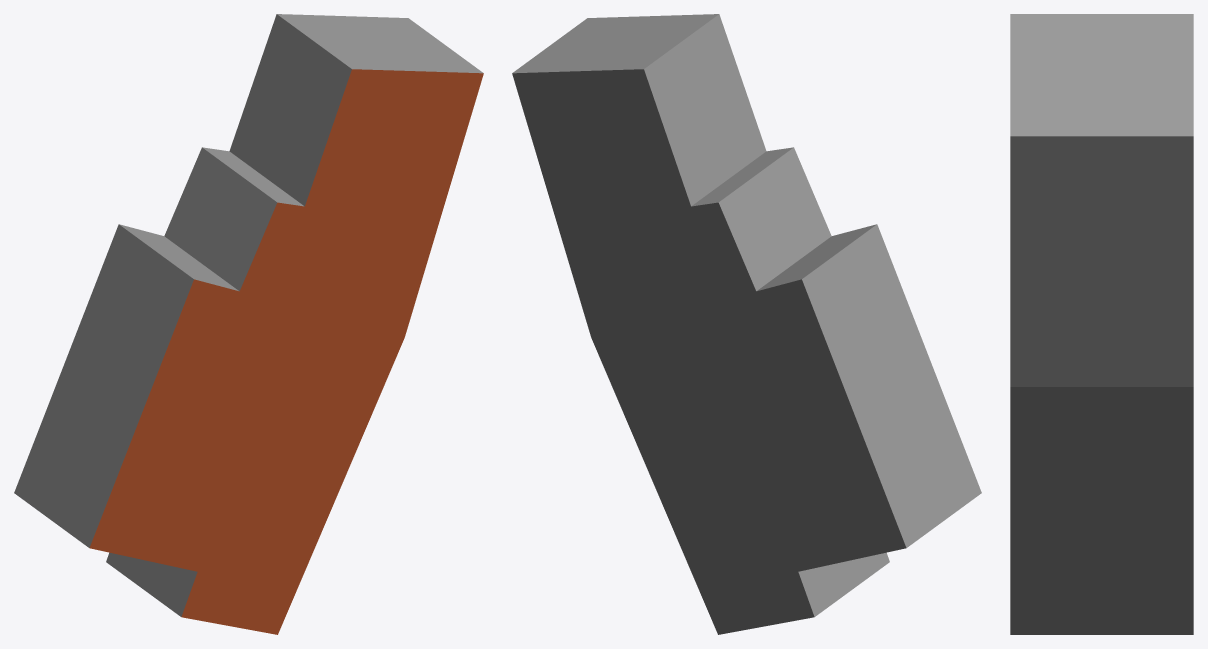
Rendered from construction_1296_assumed_A_Casa_h6m.obj.
The picture shows the model from 3 angles, left to right: view 1: azimuth 30°, elevation 25°; view 2: azimuth 150°, elevation 25°; view 3: azimuth 270°, elevation 25°; orthographic projection. The views are drawn at different scales.
Visible parts, largest first — view 1: construction_1296_assumed_A_Casa; view 2: construction_1296_assumed_A_Casa; view 3: construction_1296_assumed_A_Casa.
Boxes of the visible parts, x1,y1,x2,y2 form: construction_1296_assumed_A_Casa: (14, 14, 483, 634); construction_1296_assumed_A_Casa: (512, 14, 981, 634); construction_1296_assumed_A_Casa: (1010, 14, 1193, 634).
Bounding box in the file's own units: 18.12 × 24.05 × 6.
